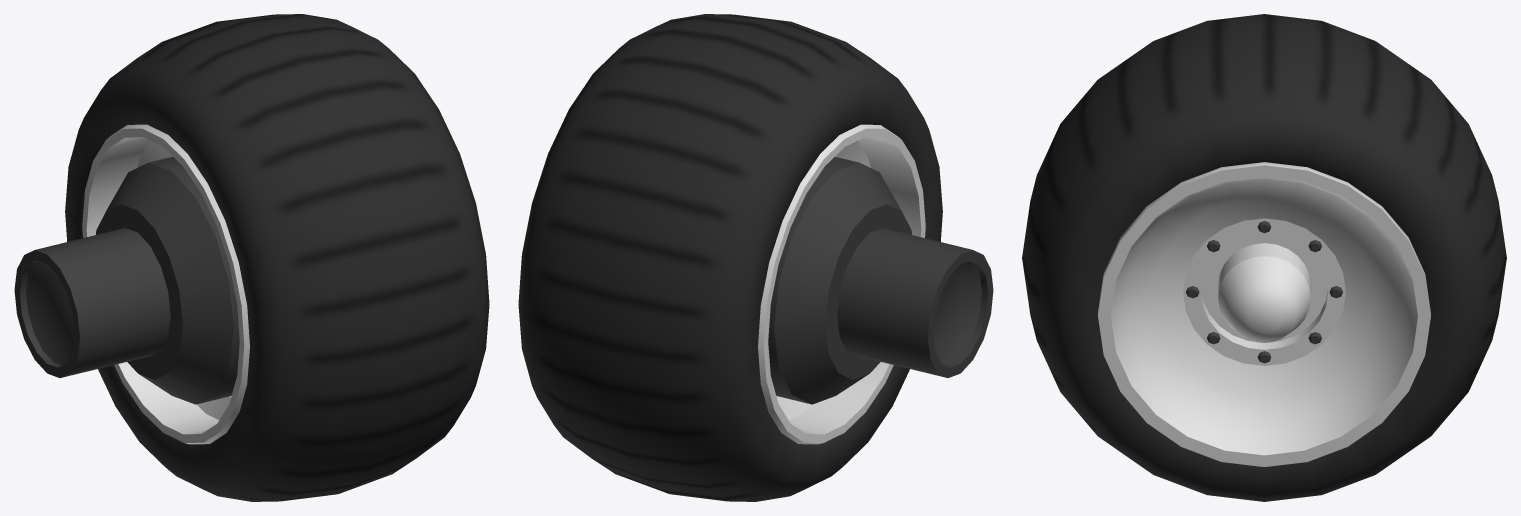
The model's file is tire1_back1.obj.
3 renders of one model, left to right at view 1: azimuth 30°, elevation 25°; view 2: azimuth 150°, elevation 25°; view 3: azimuth 270°, elevation 25°, orthographic.
Parts seen in each view (by area): view 1: tire1_back1; view 2: tire1_back1; view 3: tire1_back1.
Boxes of the visible parts, x1,y1,x2,y2 form: tire1_back1: (14,14,489,501); tire1_back1: (518,14,993,501); tire1_back1: (1022,14,1506,501).
Bounding box in the file's own units: 0.7498 × 0.8933 × 0.8933.
Materials: 1 (1 with a texture image).
